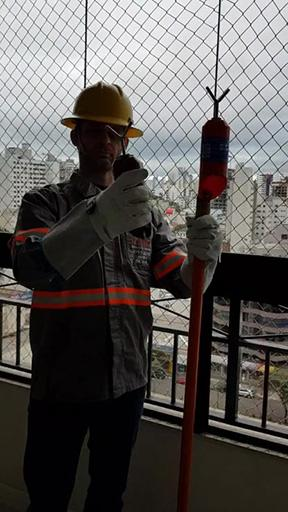Detector_Tensao_Contato: (105, 121, 152, 239), (201, 84, 230, 203)
Vara_Manobra: (174, 194, 211, 512)
